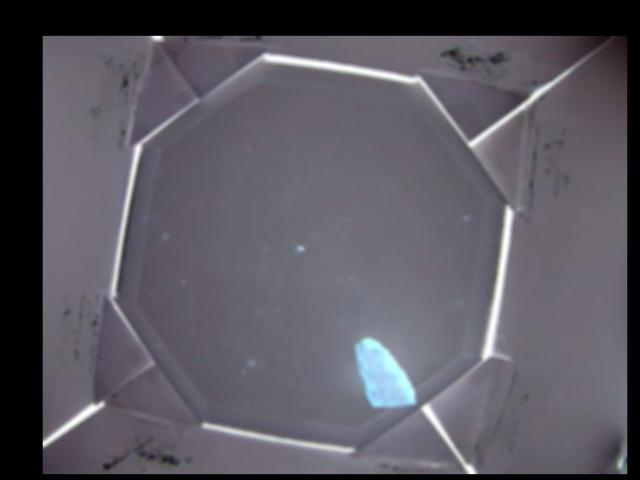Brisk: (356, 338, 419, 407)
